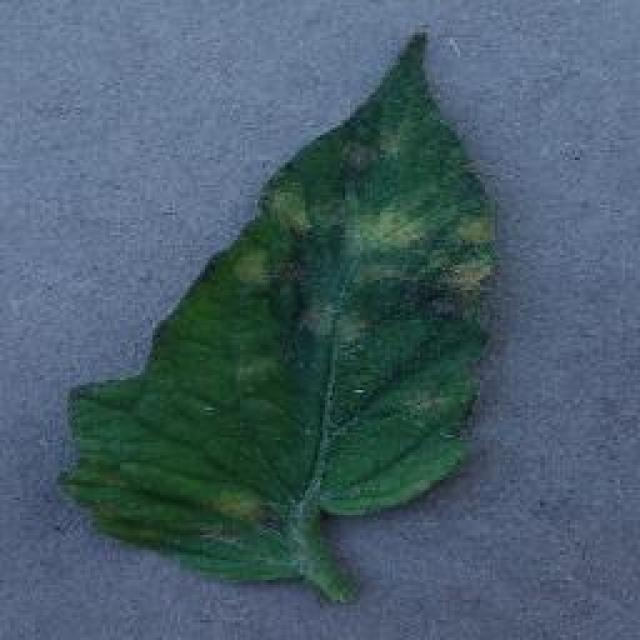Tomato mold leaf: (68, 25, 500, 587)
